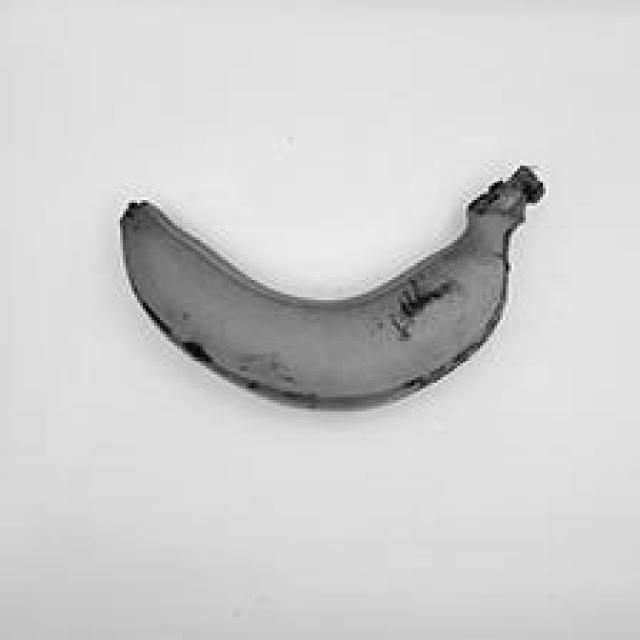Raw: (103, 135, 556, 427)
